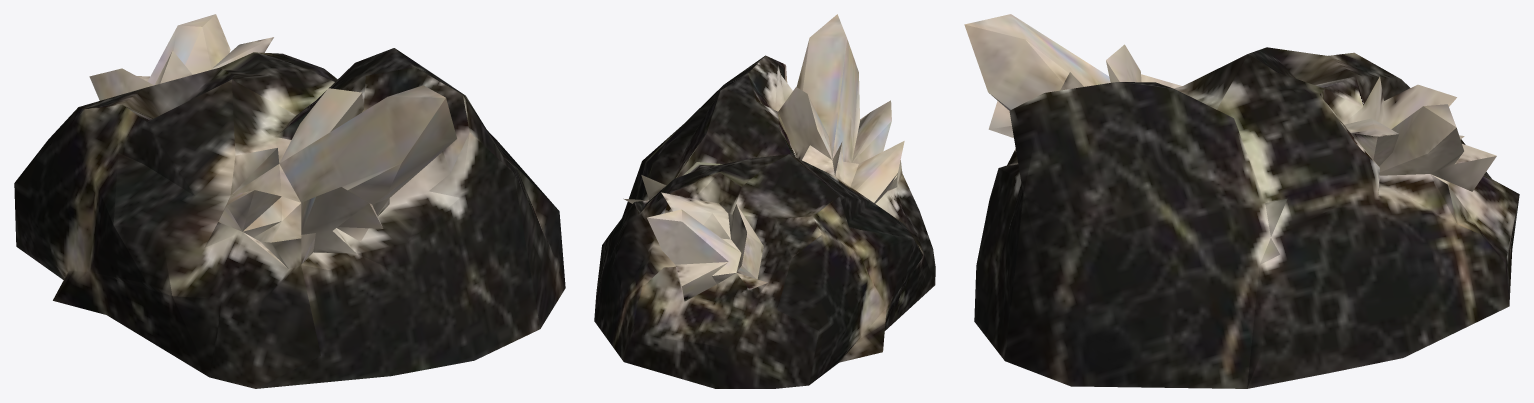
File: ore-platinum-lod1.glb
3 renders of one model, left to right at view 1: azimuth 30°, elevation 25°; view 2: azimuth 150°, elevation 25°; view 3: azimuth 270°, elevation 25°, orthographic. The views are drawn at different scales.
Parts seen in each view (by area): view 1: ore-platinum-lod1; view 2: ore-platinum-lod1; view 3: ore-platinum-lod1.
Part boxes in pixels (box(x1,y1,x2,y2)): ore-platinum-lod1: box(14, 14, 565, 388); ore-platinum-lod1: box(594, 14, 935, 388); ore-platinum-lod1: box(964, 14, 1519, 388).
Bounding box in the file's own units: 1.7 × 1.11 × 1.99.
Materials: 1 (1 with a texture image).
